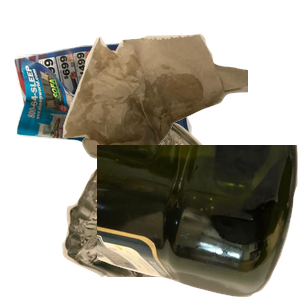glass: (60, 120, 300, 300)
paper: (12, 31, 196, 204)
plastic: (97, 145, 300, 300)
trash: (60, 31, 300, 189)
